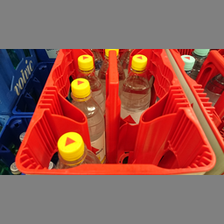water: (69, 78, 104, 159), (49, 130, 102, 170), (119, 54, 150, 122)
